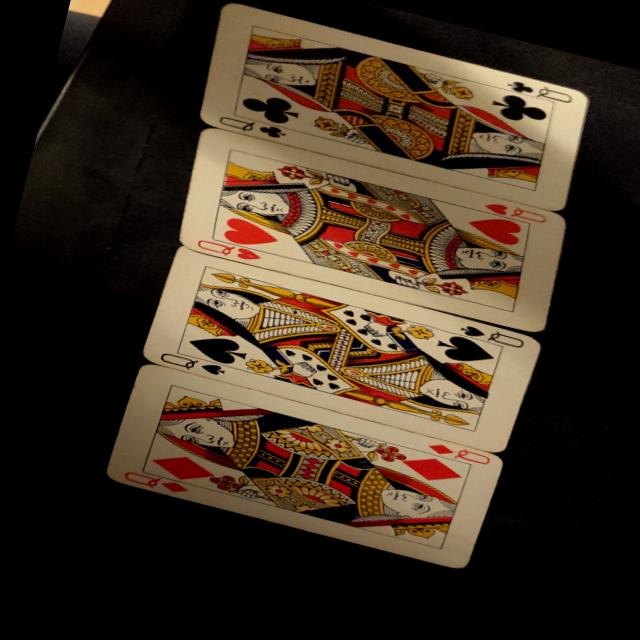Club: (238, 90, 302, 128), (488, 90, 548, 127), (258, 123, 286, 140), (506, 80, 534, 96)
Diamond: (148, 448, 217, 487), (398, 450, 464, 488), (160, 480, 190, 496), (426, 441, 455, 457)
Heart: (464, 210, 522, 248), (222, 216, 280, 253), (236, 247, 262, 263), (483, 200, 508, 216)
Queen: (159, 352, 198, 372), (486, 329, 525, 349), (196, 238, 235, 257), (454, 446, 491, 466), (218, 114, 255, 134), (122, 469, 160, 488), (536, 85, 572, 105), (509, 206, 546, 224)
Spade: (433, 331, 497, 369), (185, 330, 249, 368), (458, 324, 486, 339), (200, 362, 226, 376)
